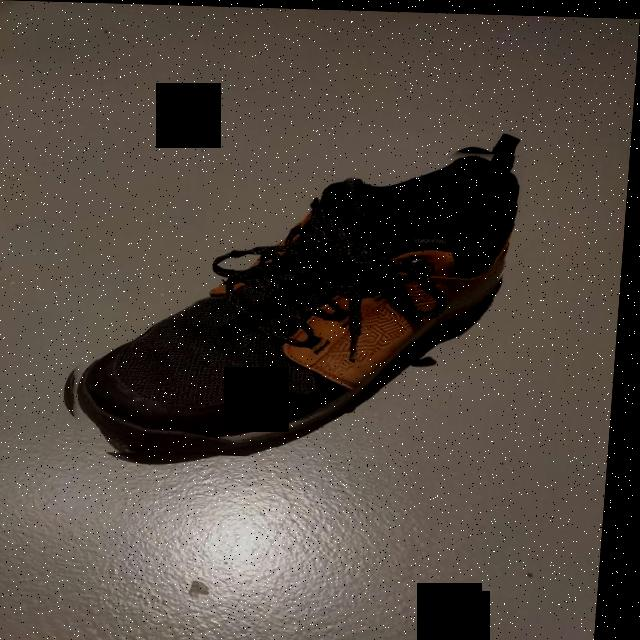shoe: (63, 132, 527, 460)
